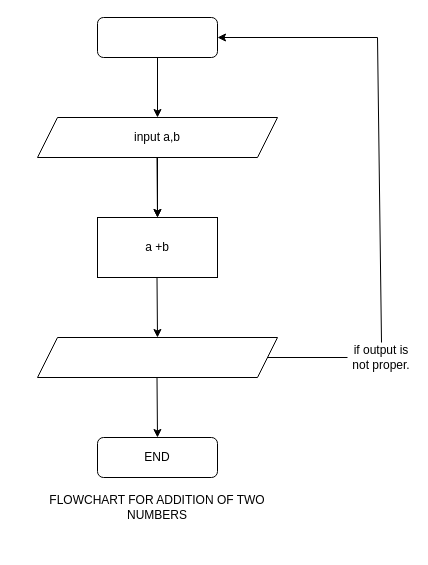
Some shapes in this 428 by 565 pixel diagram are drawn without their labels. Here are the shapes that lost their labels. From the top down, the box of each, then its label:
(96, 16, 218, 58): START
(36, 336, 278, 378): output
